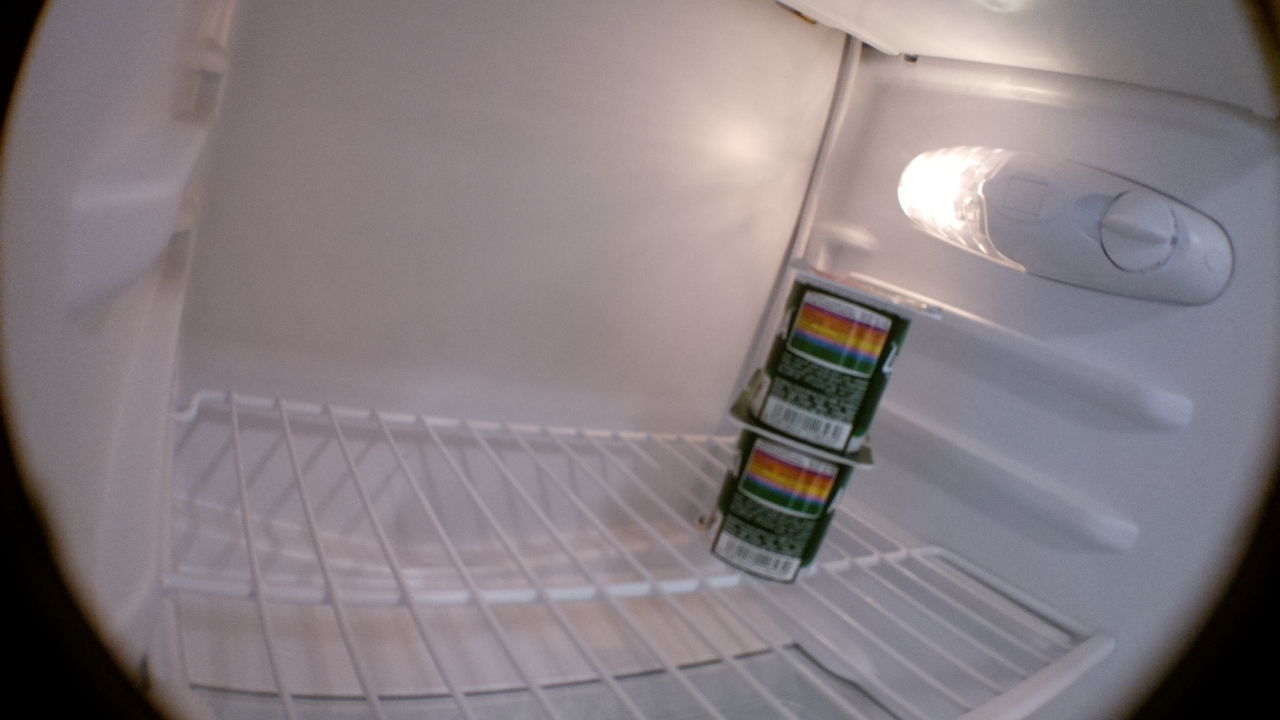yoghurt: (749, 257, 942, 454), (697, 391, 876, 583)
